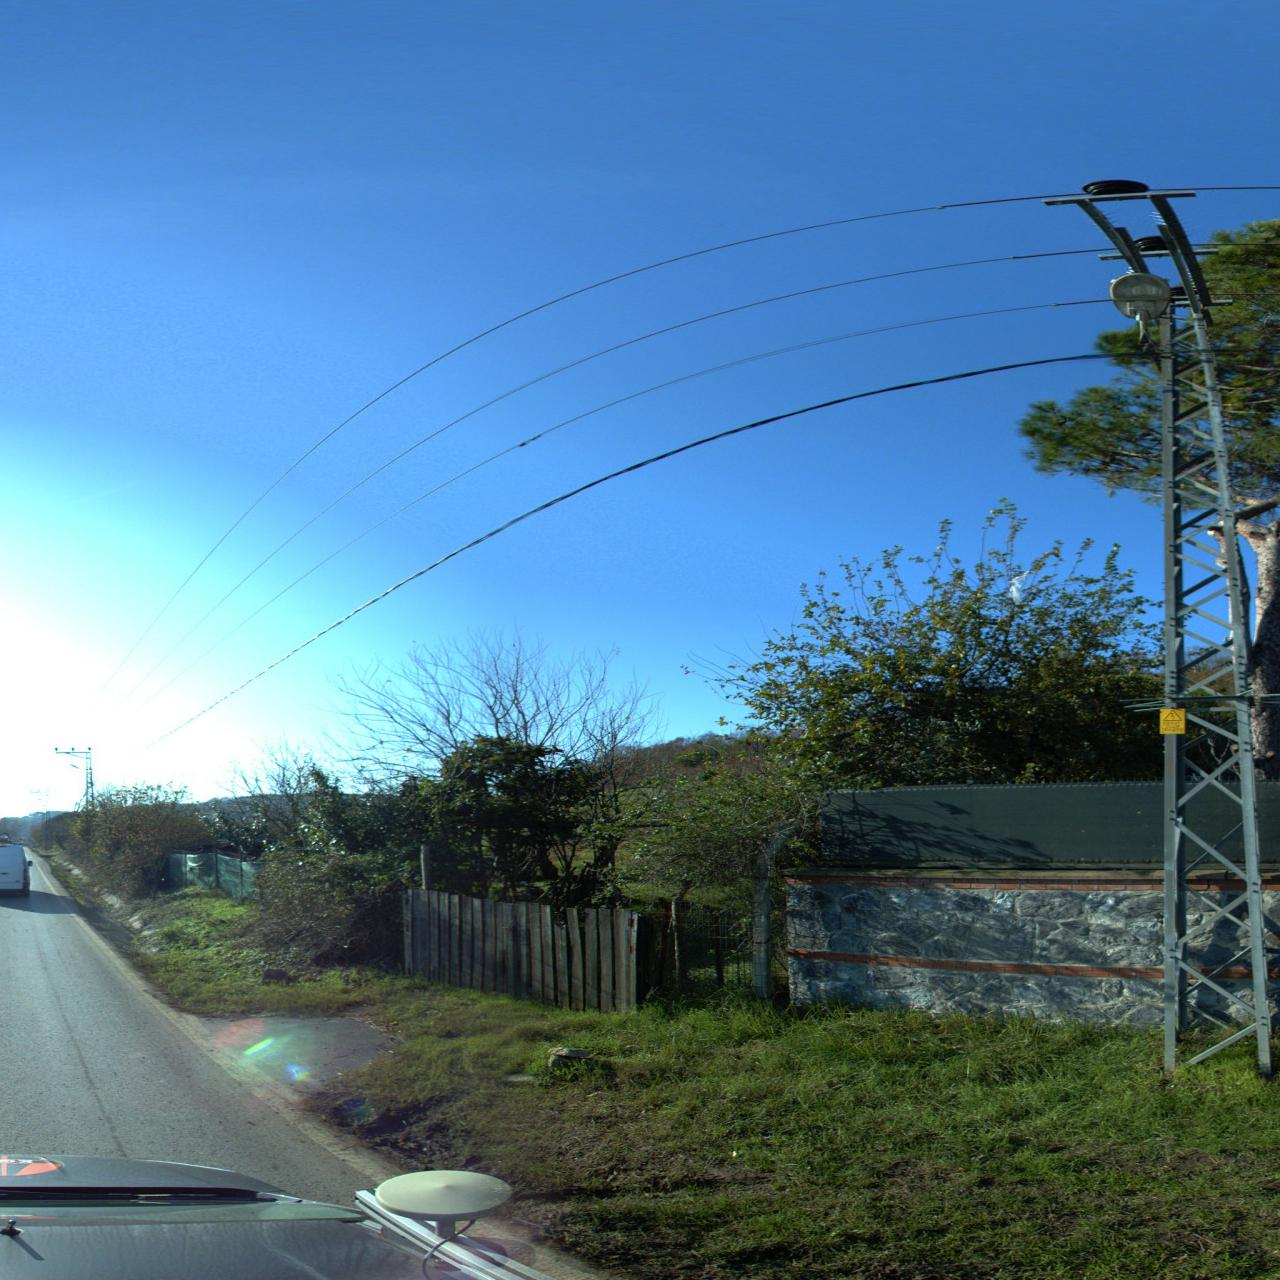Utility Pole Information Plate: (1159, 709, 1186, 733)
